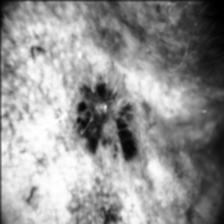Potentially Malignant Skin Tumors: (73, 72, 147, 156)
